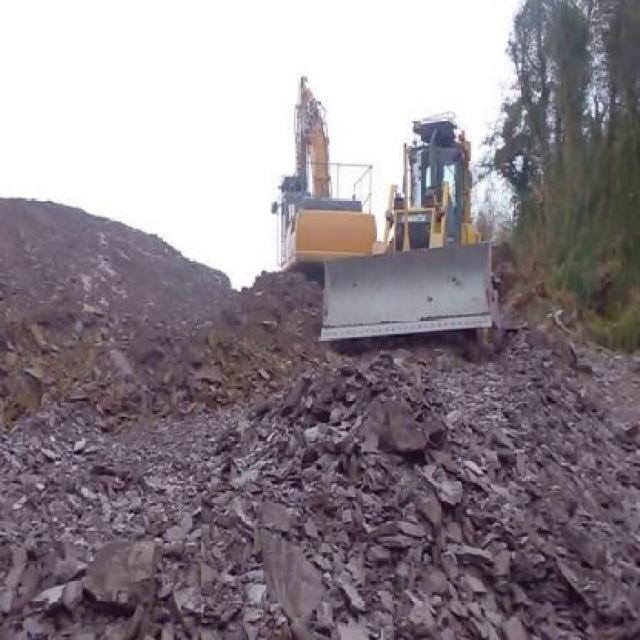Excavator: (272, 76, 378, 264)
